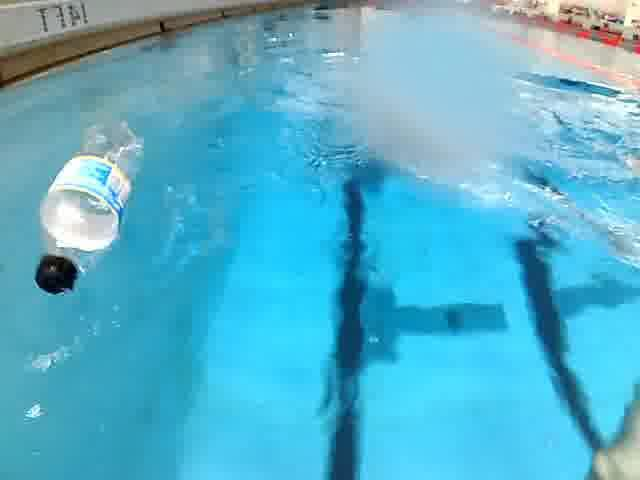Bottle: (25, 116, 154, 303)
